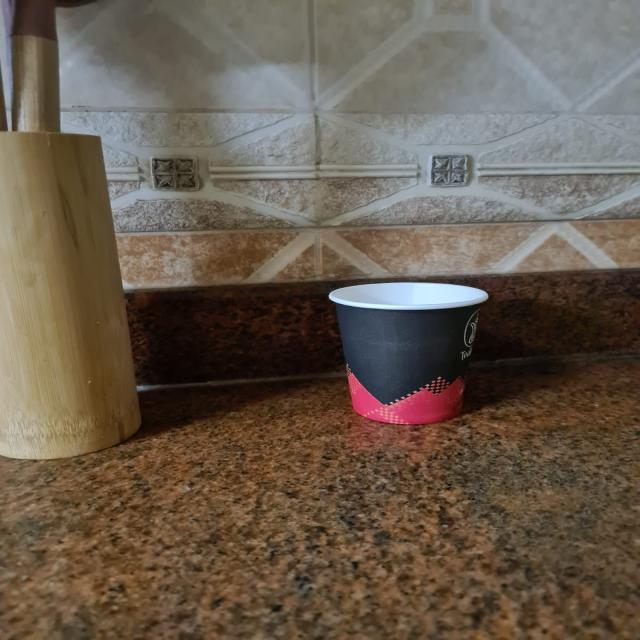cups: (325, 280, 495, 424)
